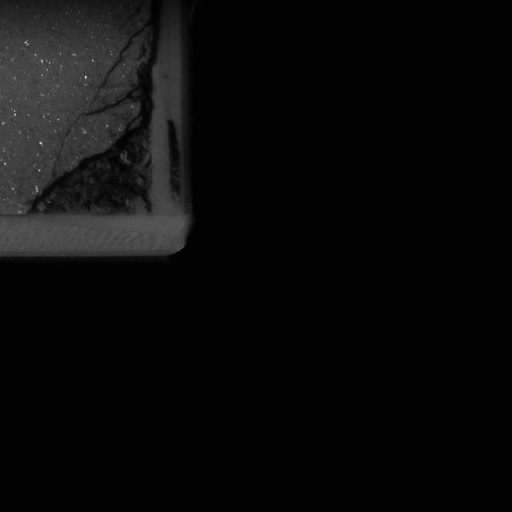bengque: (26, 118, 154, 221)
